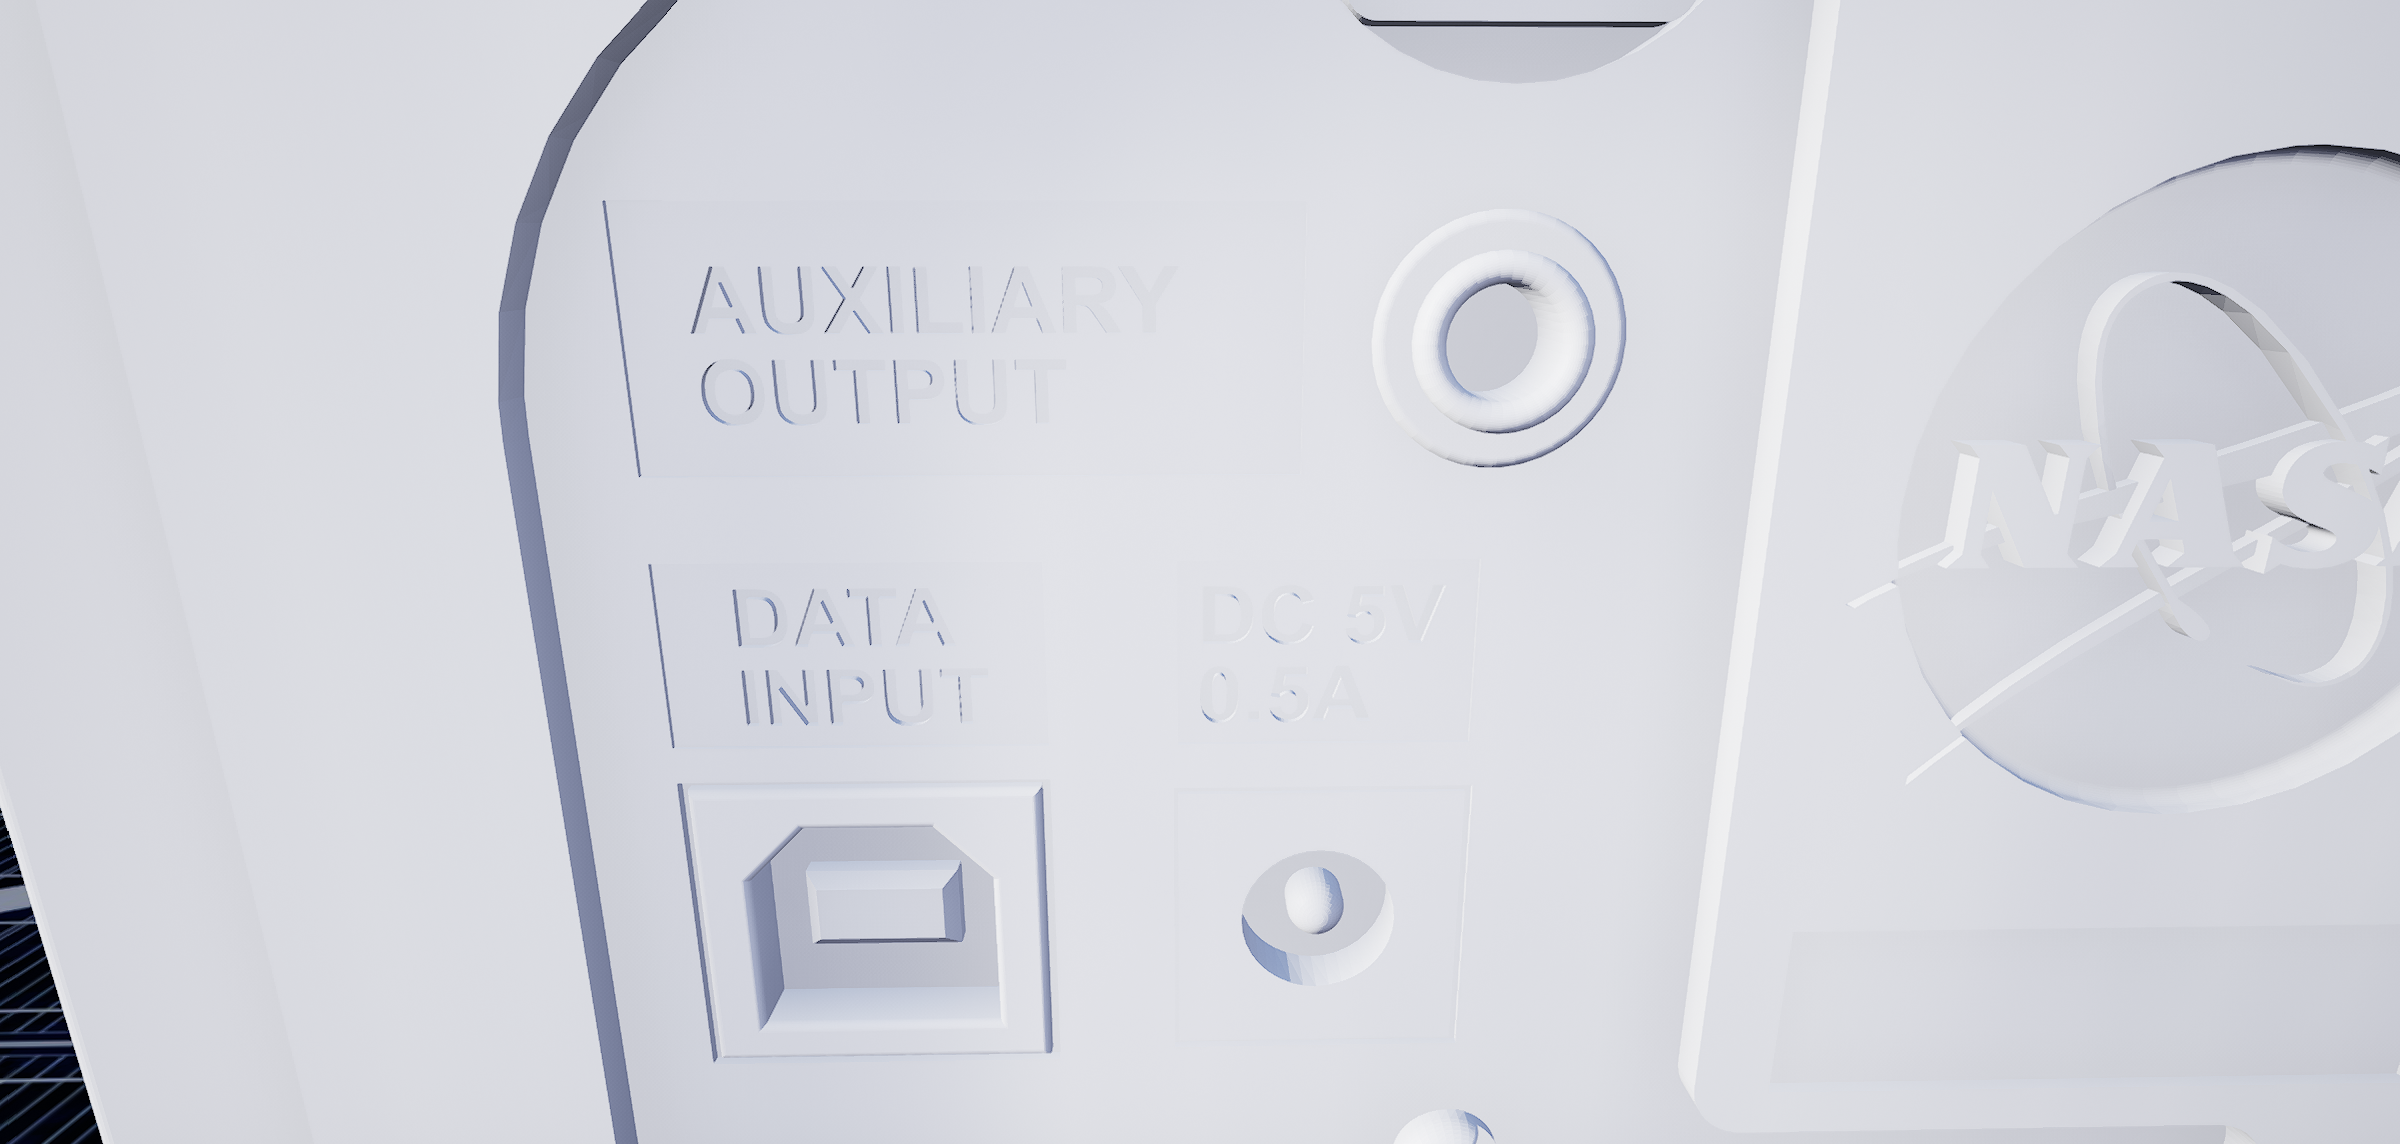aux: (1353, 188, 1639, 508)
dc: (1223, 838, 1420, 1011)
usb: (727, 809, 1026, 1044)
